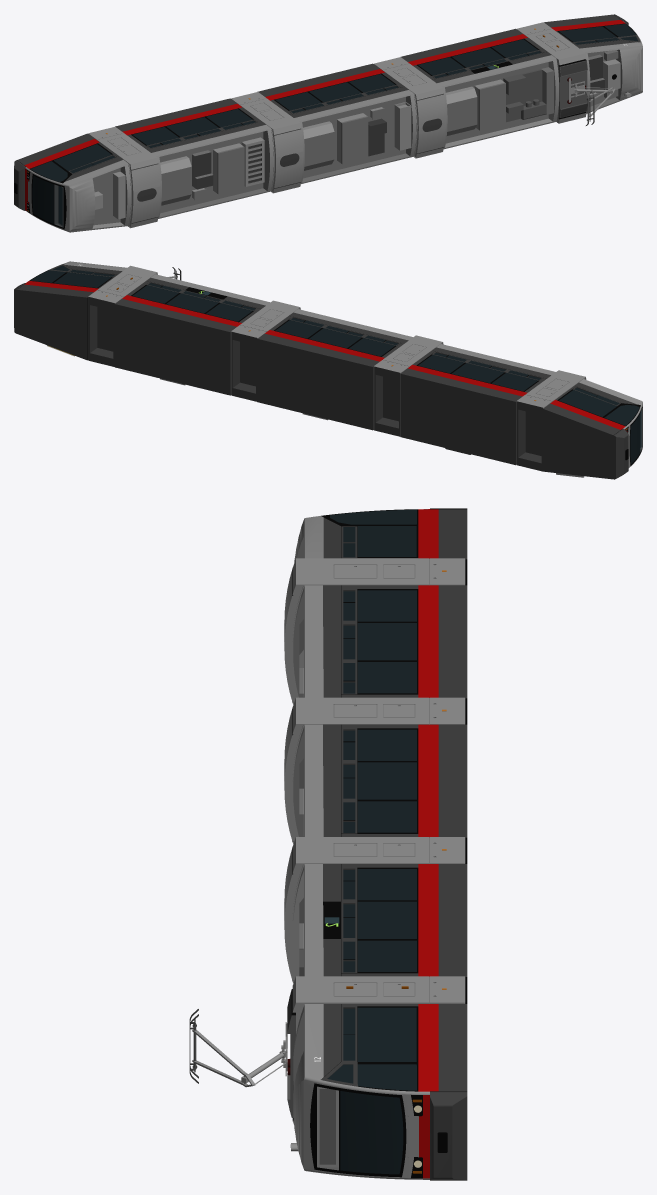
File: streetcar.obj
The picture shows the model from 3 angles, top to bottom: view 1: azimuth 30°, elevation 25°; view 2: azimuth 150°, elevation 25°; view 3: azimuth 270°, elevation 25°; orthographic projection. The views are drawn at different scales.
Parts seen in each view (by area): view 1: Group_035, Group_002, Group_003, Group_037, Group_039, Group_031, Group_023, Group_027, Layer0_001, Group_010; view 2: Group_035, Group_002, Layer0_001, Group_037, Group_039, Group_031, Group_027, Group_023, Group_010, Group_003; view 3: Group_039, Group_002, Group_035, Layer0_001, Group_003, Group_037, Group_027, Group_031, Group_023, Group_010.
Part boxes in pixels (x1,y1,x2,y2): Group_035: (401,28,559,149); Group_002: (257,63,416,183); Group_003: (127,108,273,218); Group_037: (14,133,130,232); Group_039: (544,14,642,113); Group_031: (88,127,160,228); Group_023: (374,57,445,158); Group_027: (231,92,303,193); Layer0_001: (115,98,273,161); Group_010: (517,22,587,123); Group_035: (114,274,270,395); Group_002: (257,309,412,430); Layer0_001: (400,344,555,465); Group_037: (543,379,642,479); Group_039: (14,261,127,360); Group_031: (516,370,586,471); Group_027: (374,335,443,436); Group_023: (231,300,300,401); Group_010: (88,265,157,366); Group_003: (416,351,546,464); Group_039: (290,1004,467,1180); Group_002: (293,724,467,863); Group_035: (293,864,467,1003); Layer0_001: (301,585,467,724); Group_003: (293,585,418,697); Group_037: (294,508,467,585); Group_027: (284,697,465,843); Group_031: (284,558,465,704); Group_023: (284,837,465,983); Group_010: (287,976,465,1123).
Size of the model in its own units: 2.81 by 0.2889 by 0.5535.
